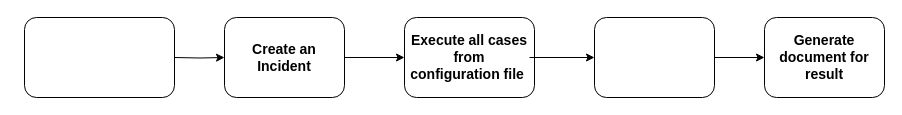
This 902x115 diagram has some shape labels left out. Each missing label, with the box of its shape:
Upload Automation Script to the Demisto Instance: (24, 16, 174, 98)
Verify the results for the cases: (594, 16, 714, 98)
